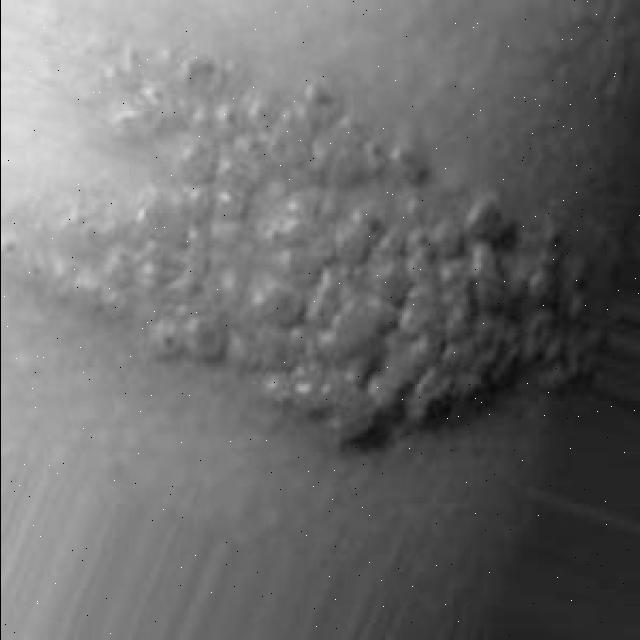Shingles: (41, 6, 598, 446)
